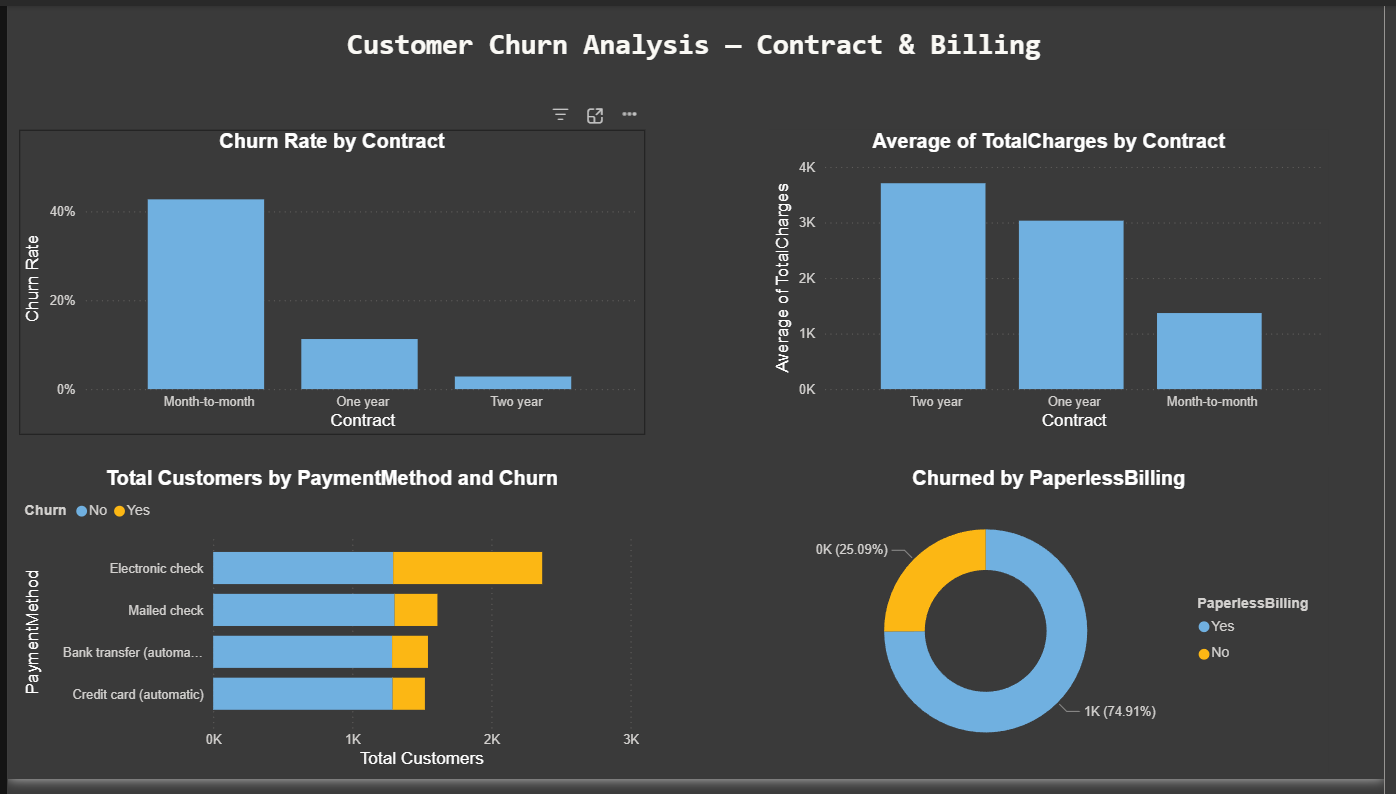

This screenshot's page, from the dashboard's own definition file:
{"tool":"powerbi","page":{"name":"Contract &  Billing","canvas":[1280,720],"ordinal":2},"visuals":[{"type":"clusteredColumnChart","fields":{"Category":["churn_data.Contract"],"Y":["Measures (2).Churn Rate"]},"box":[11,115.3,581.8,284],"z":0},{"type":"barChart","fields":{"Category":["churn_data.PaymentMethod"],"Y":["Measures (2).Total Customers"],"Series":["churn_data.Churn"]},"box":[11,429.5,581.8,284],"z":1000},{"type":"clusteredColumnChart","fields":{"Category":["churn_data.Contract"],"Y":["Avg(churn_data.TotalCharges)"]},"box":[708.1,115.3,520.1,284],"z":2000},{"type":"donutChart","fields":{"Category":["churn_data.PaperlessBilling"],"Y":["Measures (2).Churned"]},"box":[708.1,429.5,520.1,284],"z":3000},{"type":"textbox","box":[310,15.1,660,49.4],"z":4000}]}

Visuals, with their boxes in screenshot pixels (x1, y1, x2, y2), scaled from the page's 1280x720 canvas onto the 1396x794 screenshot:
clusteredColumnChart - churn_data.Contract x Measures (2).Churn Rate: (x1=12, y1=127, x2=647, y2=440)
barChart - churn_data.PaymentMethod x Measures (2).Total Customers: (x1=12, y1=474, x2=647, y2=787)
clusteredColumnChart - churn_data.Contract x Avg(churn_data.TotalCharges): (x1=772, y1=127, x2=1340, y2=440)
donutChart - churn_data.PaperlessBilling x Measures (2).Churned: (x1=772, y1=474, x2=1340, y2=787)
textbox: (x1=338, y1=17, x2=1058, y2=71)
